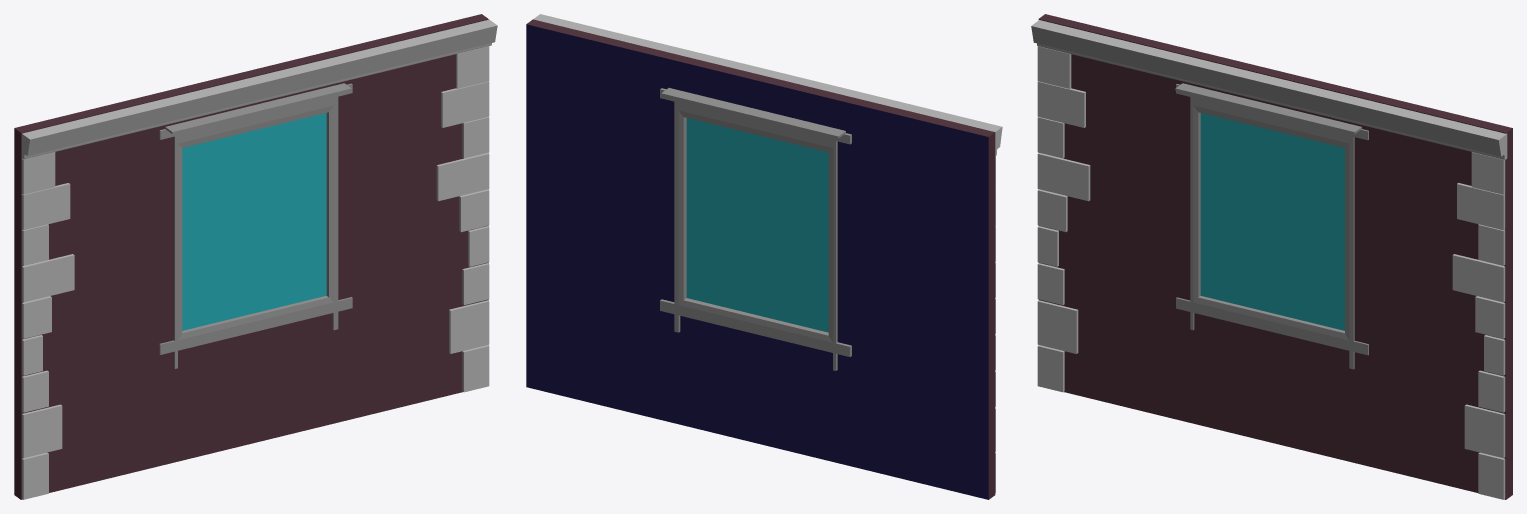
The model's file is SmallWindowWall.fbx.
3 renders of one model, left to right at view 1: azimuth 30°, elevation 25°; view 2: azimuth 150°, elevation 25°; view 3: azimuth 330°, elevation 25°, orthographic.
Visible parts, largest first — view 1: ONE WINDOW BASE, WALL SIDES.002, WALL TOP.002, WINDOW FRAME; view 2: ONE WINDOW BASE, WINDOW FRAME, WALL TOP.002; view 3: ONE WINDOW BASE, WALL SIDES.002, WALL TOP.002, WINDOW FRAME.
Boxes of the visible parts, box(x1,y1,x2,y2) form: ONE WINDOW BASE: box(14, 14, 488, 499); WALL SIDES.002: box(22, 46, 489, 499); WALL TOP.002: box(22, 19, 497, 159); WINDOW FRAME: box(159, 83, 352, 368); ONE WINDOW BASE: box(526, 19, 995, 499); WINDOW FRAME: box(660, 88, 851, 370); WALL TOP.002: box(533, 14, 1002, 156); ONE WINDOW BASE: box(1038, 14, 1512, 499); WALL SIDES.002: box(1037, 46, 1505, 499); WALL TOP.002: box(1031, 20, 1507, 159); WINDOW FRAME: box(1175, 83, 1368, 369).
Bounding box in the file's own units: 801 × 600 × 67.12.
